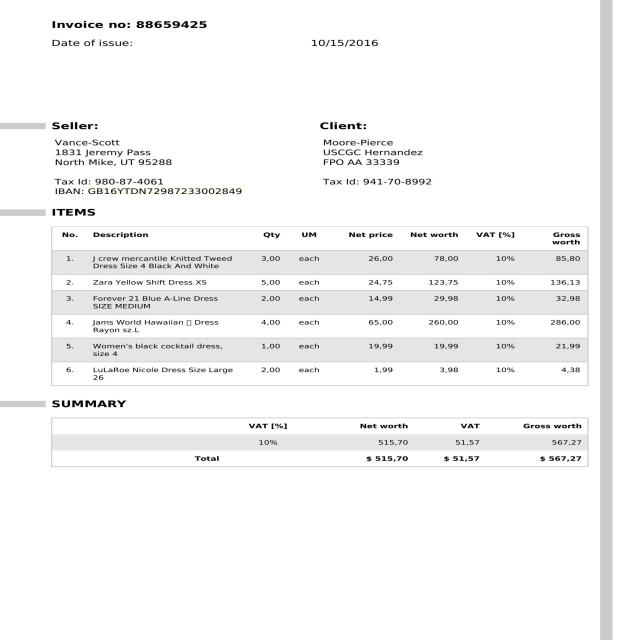customer_address: (322, 146, 468, 169)
customer_name: (322, 135, 397, 147)
invoice_date: (306, 37, 382, 49)
invoice_number: (133, 16, 230, 35)
invoice_subtotal: (348, 452, 417, 466)
invoice_total: (537, 453, 586, 465)
item_description: (83, 252, 234, 387)
item_quantity: (252, 253, 288, 384)
item_total_price: (413, 251, 470, 382)
item_unit_price: (360, 252, 400, 383)
supplier_address: (53, 149, 174, 169)
supplier_name: (53, 136, 127, 146)
tax_amount: (436, 450, 485, 464)
tax_rate: (252, 435, 283, 450)
